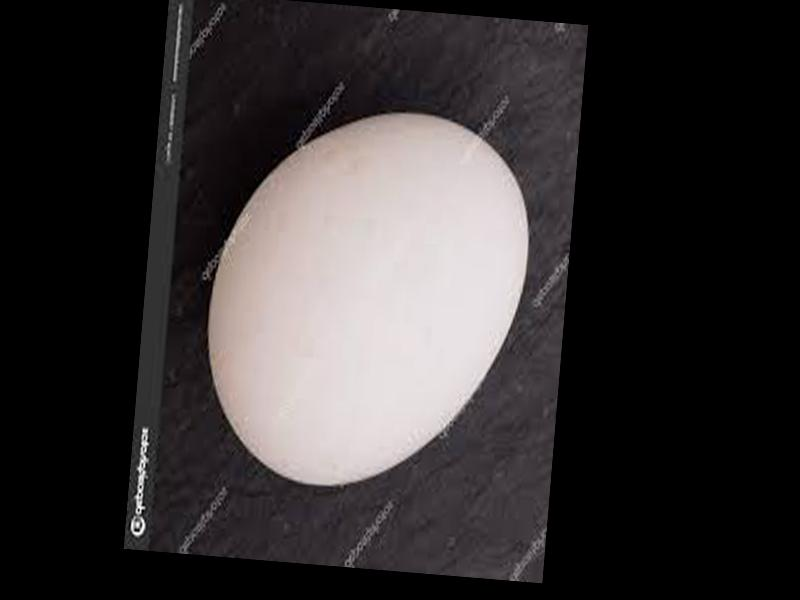Eggs: (195, 98, 536, 499)
